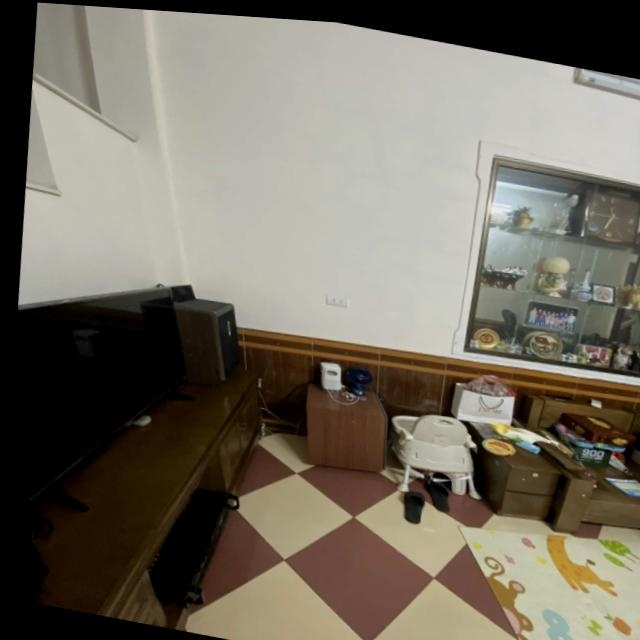outlet: (325, 293, 350, 309)
